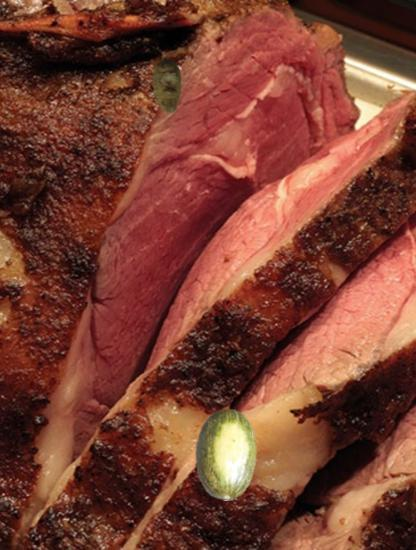Ginger: (140, 59, 195, 114)
Melon: (181, 410, 272, 501)
